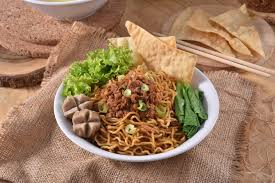Bakso sedang: (60, 91, 90, 118), (74, 108, 99, 137)
Mie ayam: (94, 71, 189, 158)
